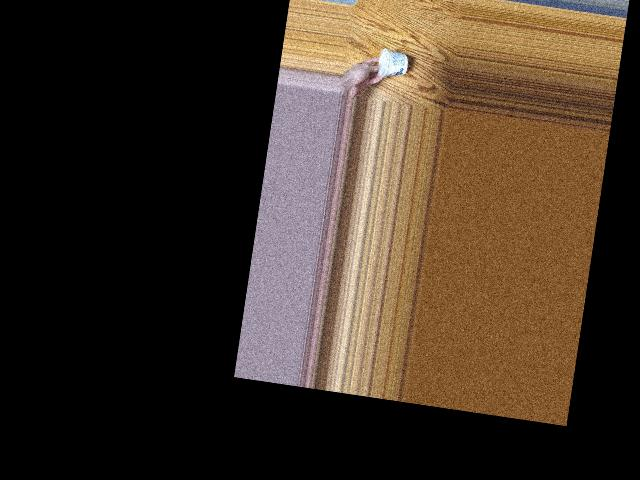cotage: (376, 44, 406, 80)
